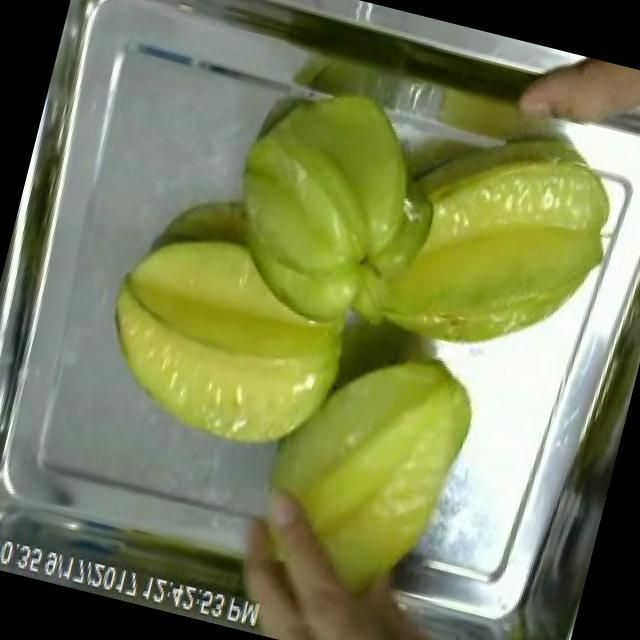fruit: (223, 314, 496, 628), (78, 208, 384, 474), (368, 101, 640, 388), (207, 55, 449, 316)
